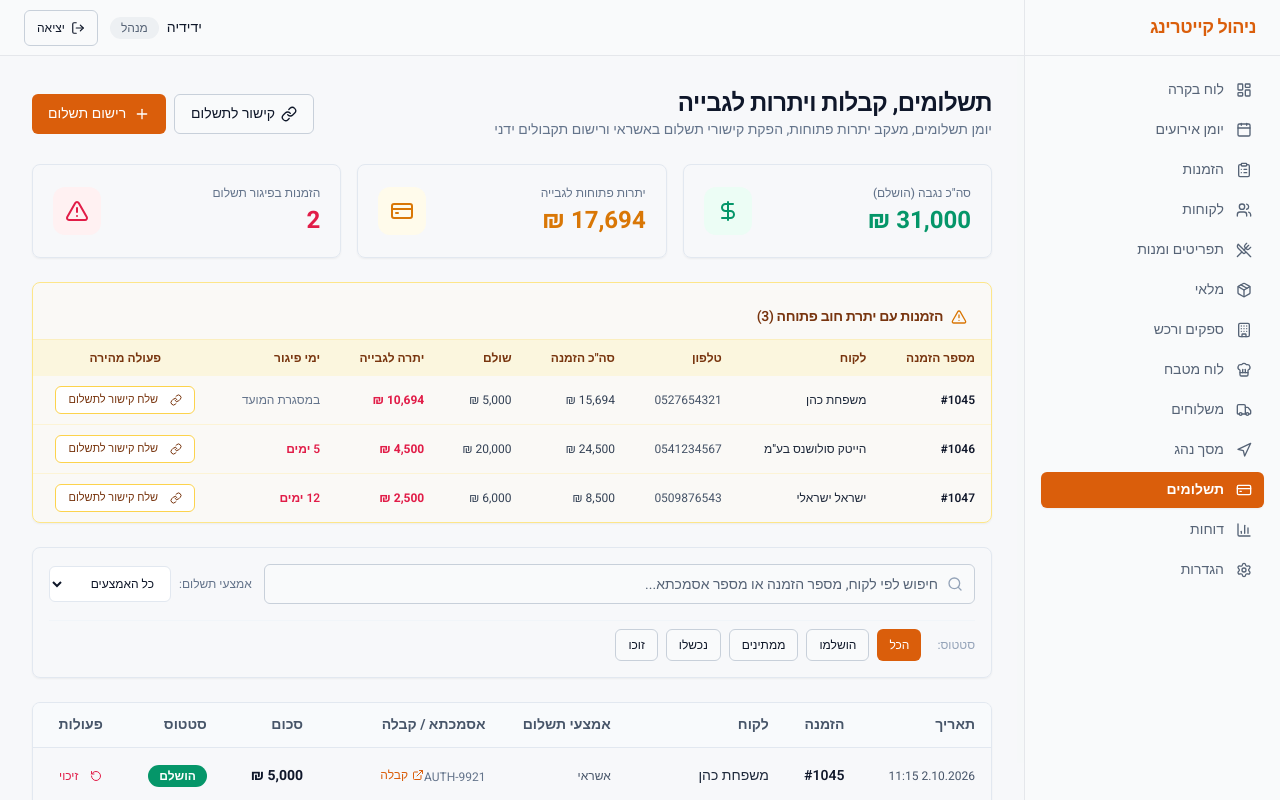
Test: S14 Payments & Billing › opens manual payment registration modal
This screenshot has width=1280, height=800.
Expected: the heading "תשלומים, קבלות ויתרות לגבייה" is shown, x1=678 y1=86 x2=992 y2=121
Click the button "רישום תשלום": coordinates (99, 114) x1=32 y1=94 x2=166 y2=134
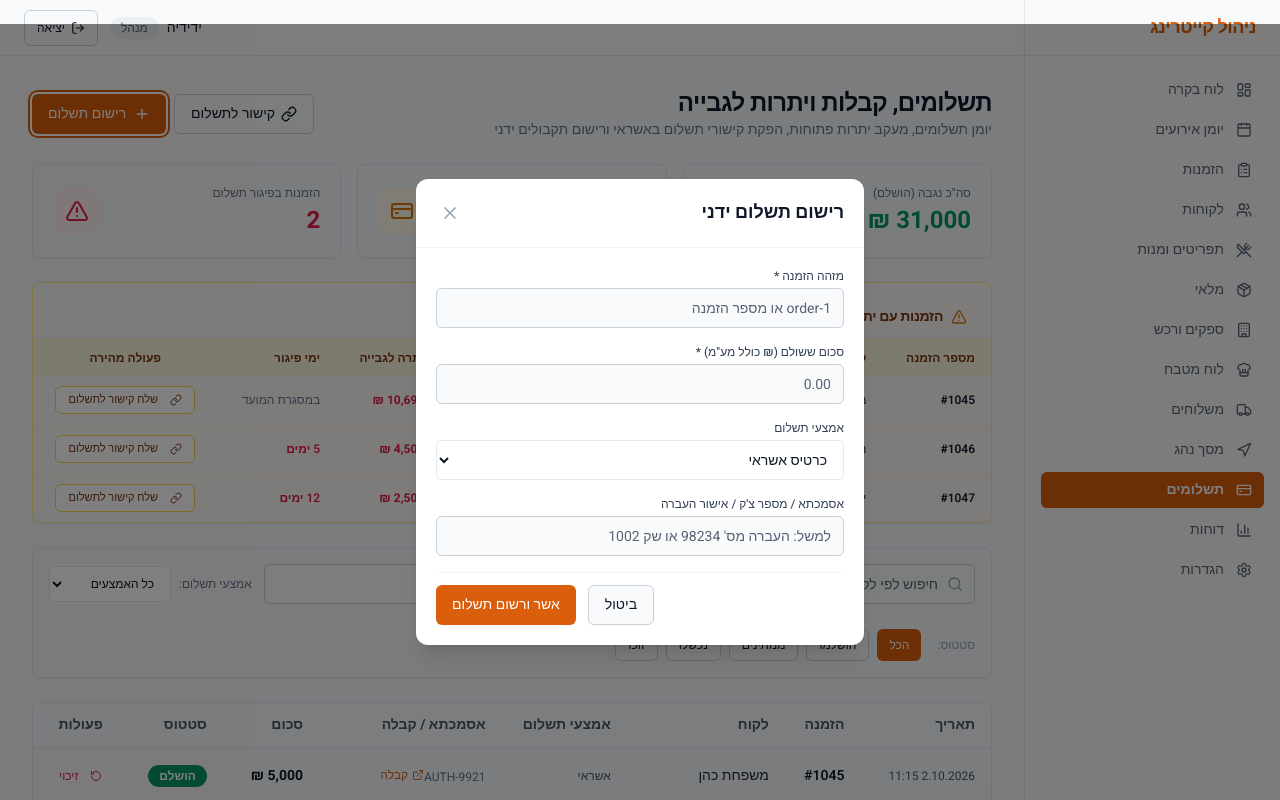
Expected: the heading "רישום תשלום ידני" is shown, x1=702 y1=199 x2=844 y2=227
Expected: the field with placeholder "order-1 או מספר הזמנה" is shown, x1=436 y1=288 x2=844 y2=328
Expected: the button "אשר ורשום תשלום" is shown, x1=436 y1=585 x2=576 y2=625
